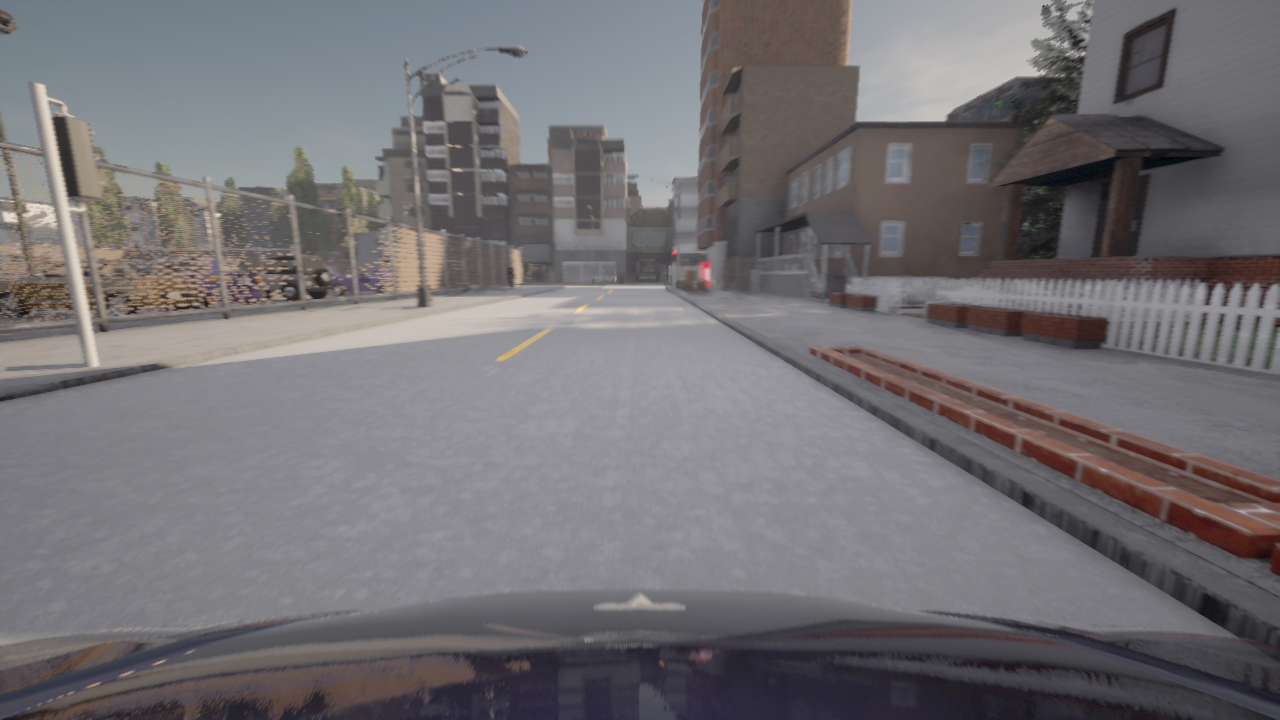cyclist: (0, 588, 1279, 719), (0, 259, 195, 317), (146, 257, 264, 308), (255, 255, 333, 300), (331, 266, 409, 295), (403, 260, 468, 288), (406, 270, 445, 289), (399, 266, 412, 273), (229, 302, 235, 303)
pedestrian: (506, 263, 514, 290), (713, 272, 720, 289)
